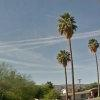Palm tree: (43, 6, 89, 100)
